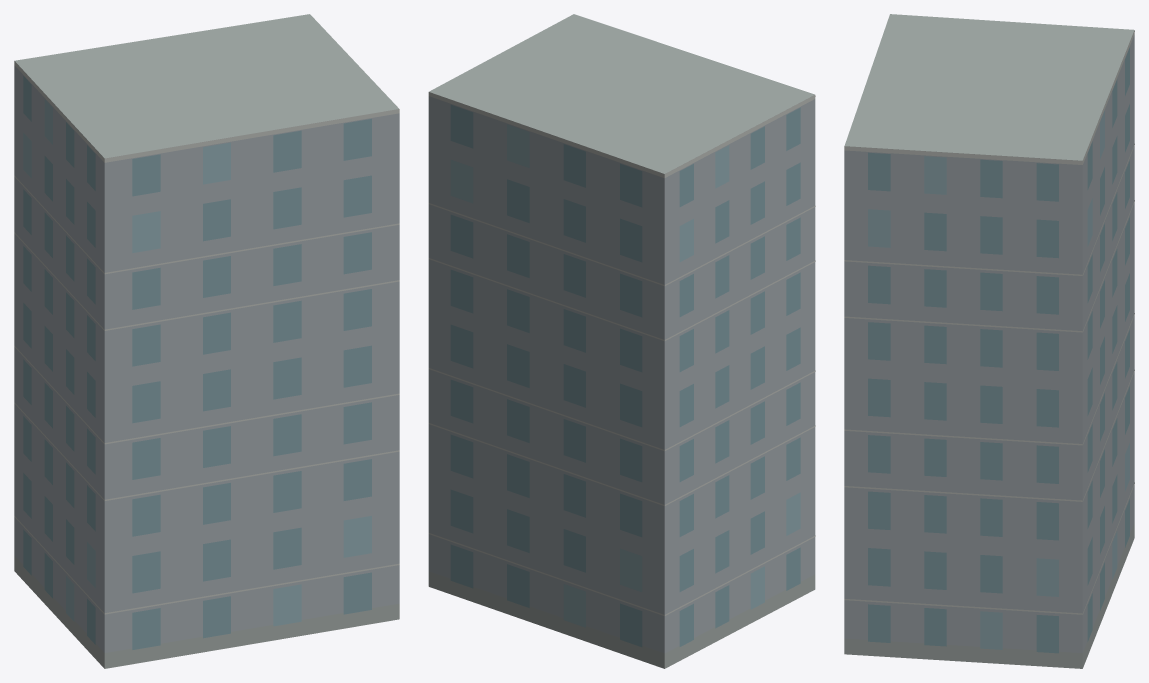
Rendered from survey-upis-32817059.glb.
3 renders of one model, left to right at view 1: azimuth 30°, elevation 25°; view 2: azimuth 150°, elevation 25°; view 3: azimuth 270°, elevation 25°, orthographic. The views are drawn at different scales.
Parts seen in each view (by area): view 1: survey-upis-32817059.tmp; view 2: survey-upis-32817059.tmp; view 3: survey-upis-32817059.tmp.
Boxes of the visible parts, left/top/right/bottom form: survey-upis-32817059.tmp: left=14, top=14, right=399, bottom=668; survey-upis-32817059.tmp: left=428, top=14, right=815, bottom=668; survey-upis-32817059.tmp: left=844, top=14, right=1134, bottom=668.
Bounding box in the file's own units: 17.68 × 28.5 × 14.77.
